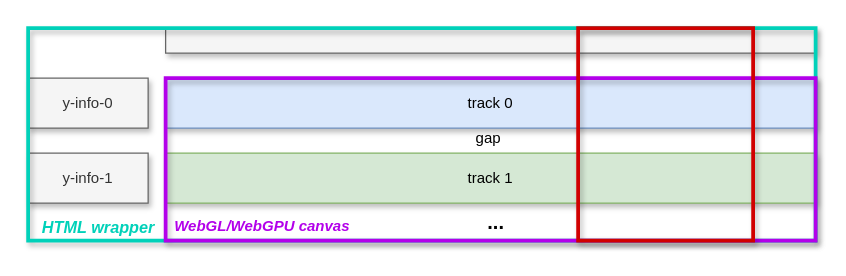
This 846x276 diagram has some shape labels left out. The shapes that lost their labels are listed below. From the top down, each one's centre as x and y in pixels, then its label:
At point 491,42: "x-info".
At point 666,136: "HTML zoom window".
